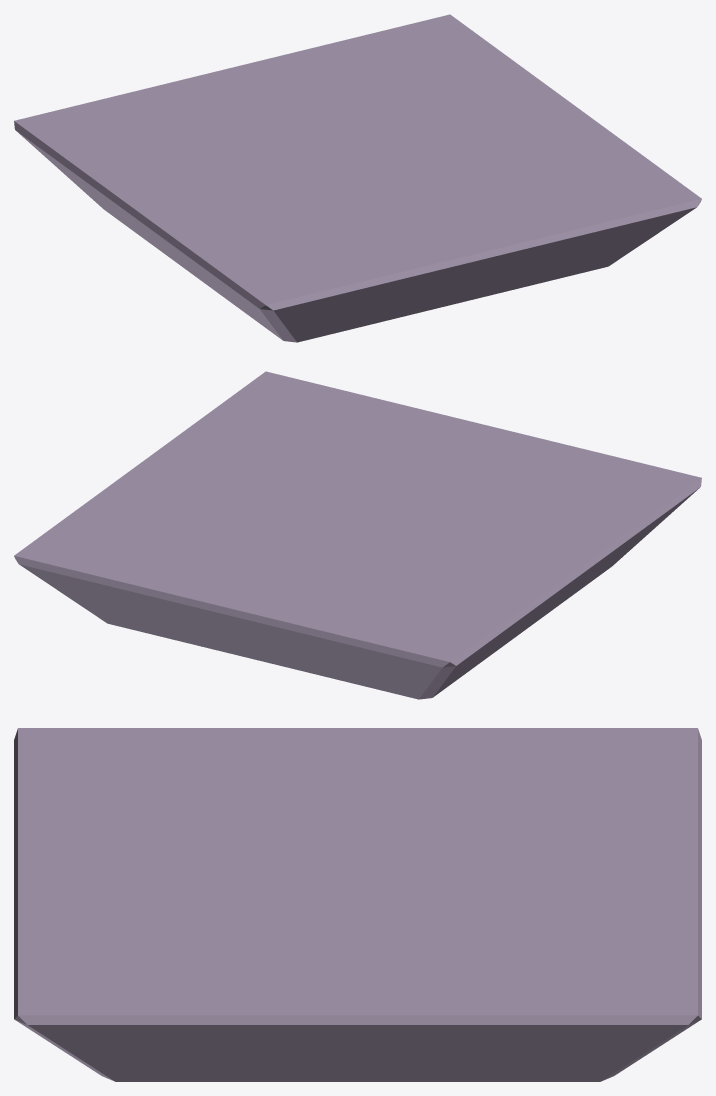
File: Light_Type1.fbx
3 views of the same model, one above another, from view 1: azimuth 30°, elevation 25°; view 2: azimuth 150°, elevation 25°; view 3: azimuth 270°, elevation 25° (orthographic). The views are drawn at different scales.
Parts seen in each view (by area): view 1: Light_Type1; view 2: Light_Type1; view 3: Light_Type1.
Part boxes in pixels (x1,y1,x2,y2): Light_Type1: (14, 14, 701, 342); Light_Type1: (14, 371, 701, 699); Light_Type1: (14, 728, 701, 1081).
Size of the model in its own units: 0.3022 by 0.0518 by 0.3022.
